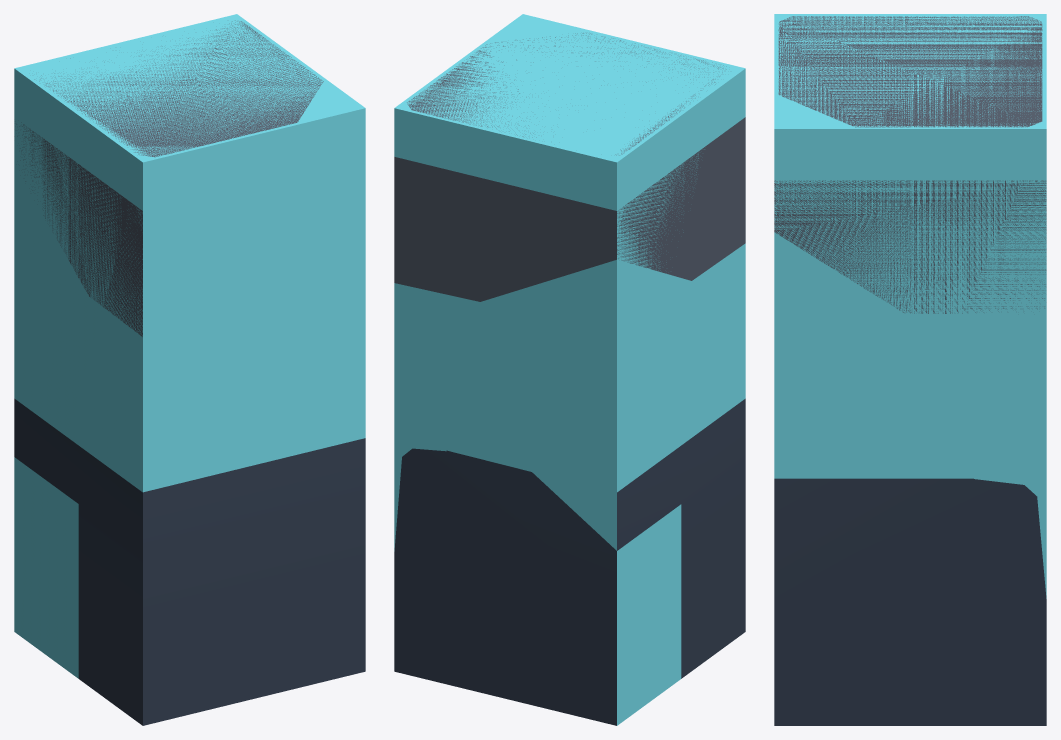
The model's file is PBOX1_MudFlA_01.FBX.
3 renders of one model, left to right at view 1: azimuth 30°, elevation 25°; view 2: azimuth 150°, elevation 25°; view 3: azimuth 270°, elevation 25°, orthographic. The views are drawn at different scales.
Parts seen in each view (by area): view 1: PBOX1_MudFlA_01, PBOX1_SUB_TAB_MudFlA_01, PBOX1_SUB_MudFlA_006; view 2: PBOX1_MudFlA_01, PBOX1_SUB_TAB_MudFlA_01, PBOX1_SUB_MudFlA_006; view 3: PBOX1_MudFlA_01, PBOX1_SUB_TAB_MudFlA_01, PBOX1_SUB_MudFlA_006.
Boxes of the visible parts, x1=… form: PBOX1_MudFlA_01: x1=14, y1=14, x2=365, y2=678; PBOX1_SUB_TAB_MudFlA_01: x1=14, y1=398, x2=365, y2=725; PBOX1_SUB_MudFlA_006: x1=14, y1=20, x2=323, y2=336; PBOX1_MudFlA_01: x1=394, y1=14, x2=745, y2=725; PBOX1_SUB_TAB_MudFlA_01: x1=394, y1=398, x2=745, y2=725; PBOX1_SUB_MudFlA_006: x1=394, y1=33, x2=745, y2=301; PBOX1_MudFlA_01: x1=774, y1=14, x2=1046, y2=598; PBOX1_SUB_TAB_MudFlA_01: x1=774, y1=478, x2=1046, y2=725; PBOX1_SUB_MudFlA_006: x1=774, y1=16, x2=1046, y2=313.
Size of the model in its own units: 6 by 14.5 by 6.
